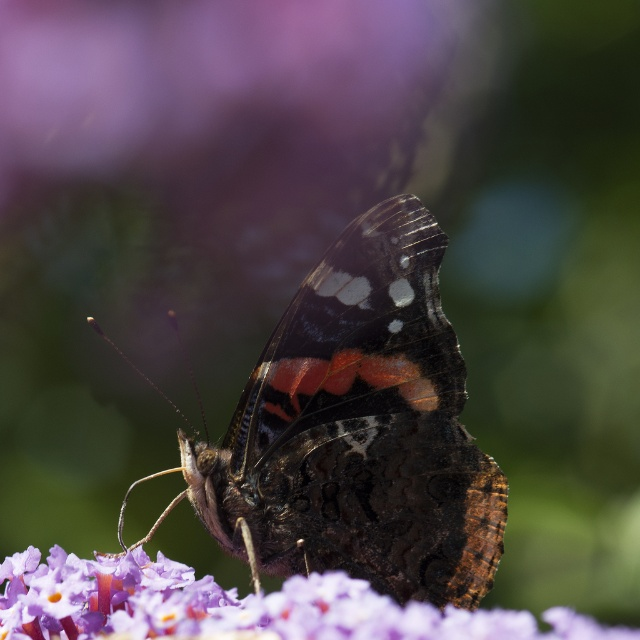Butterfly: (84, 192, 511, 617)
